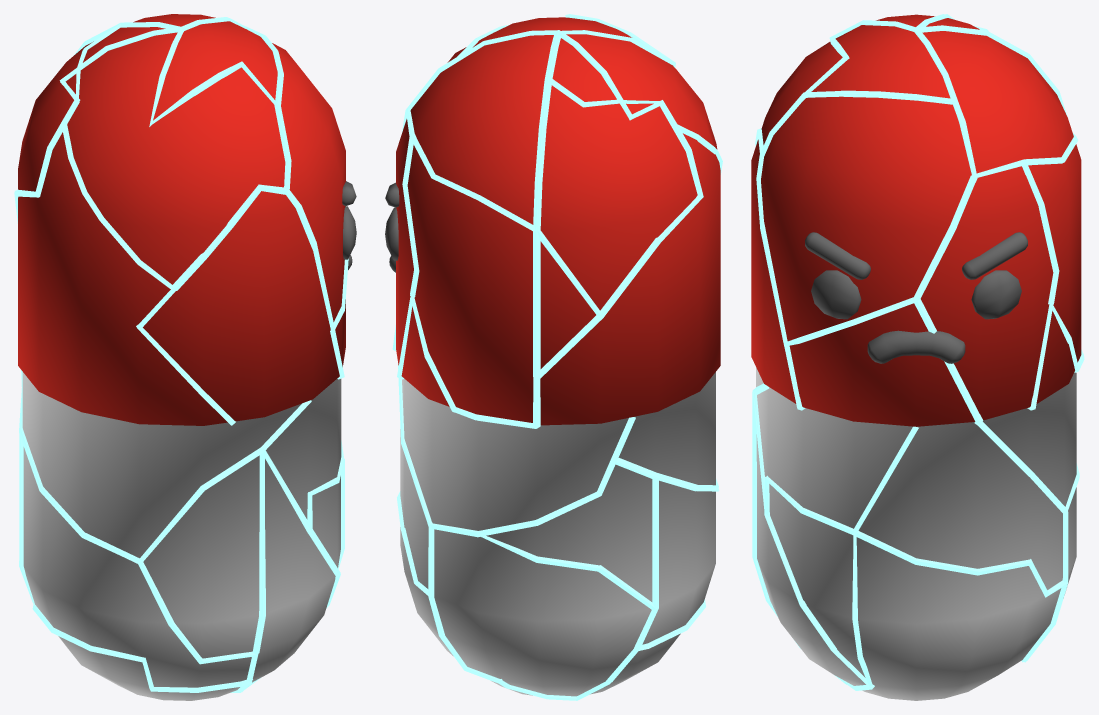
The model's file is Antibiotic.fbx.
3 renders of one model, left to right at view 1: azimuth 30°, elevation 25°; view 2: azimuth 150°, elevation 25°; view 3: azimuth 270°, elevation 25°, orthographic.
Parts seen in each view (by area): view 1: body, body_damaged, body_chipped, face; view 2: body, body_damaged, body_chipped, face; view 3: body, body_chipped, body_damaged, face.
Boxes of the visible parts, x1,y1,x2,y2 form: body: (18, 14, 345, 700); body_damaged: (14, 22, 348, 692); body_chipped: (14, 17, 347, 692); face: (342, 181, 356, 269); body: (396, 17, 720, 696); body_damaged: (397, 14, 719, 700); body_chipped: (392, 25, 722, 700); face: (385, 182, 399, 272); body: (751, 14, 1081, 700); body_chipped: (752, 14, 1079, 689); body_damaged: (752, 14, 1084, 690); face: (805, 232, 1027, 363).
Size of the model in its own units: 132 by 281 by 128.
